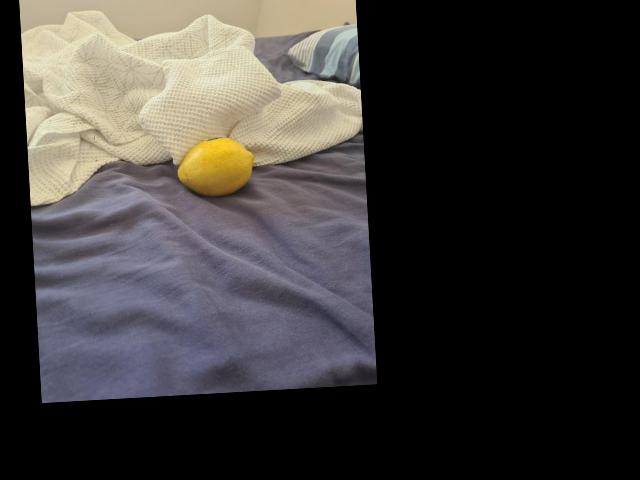lemon: (174, 137, 254, 199)
